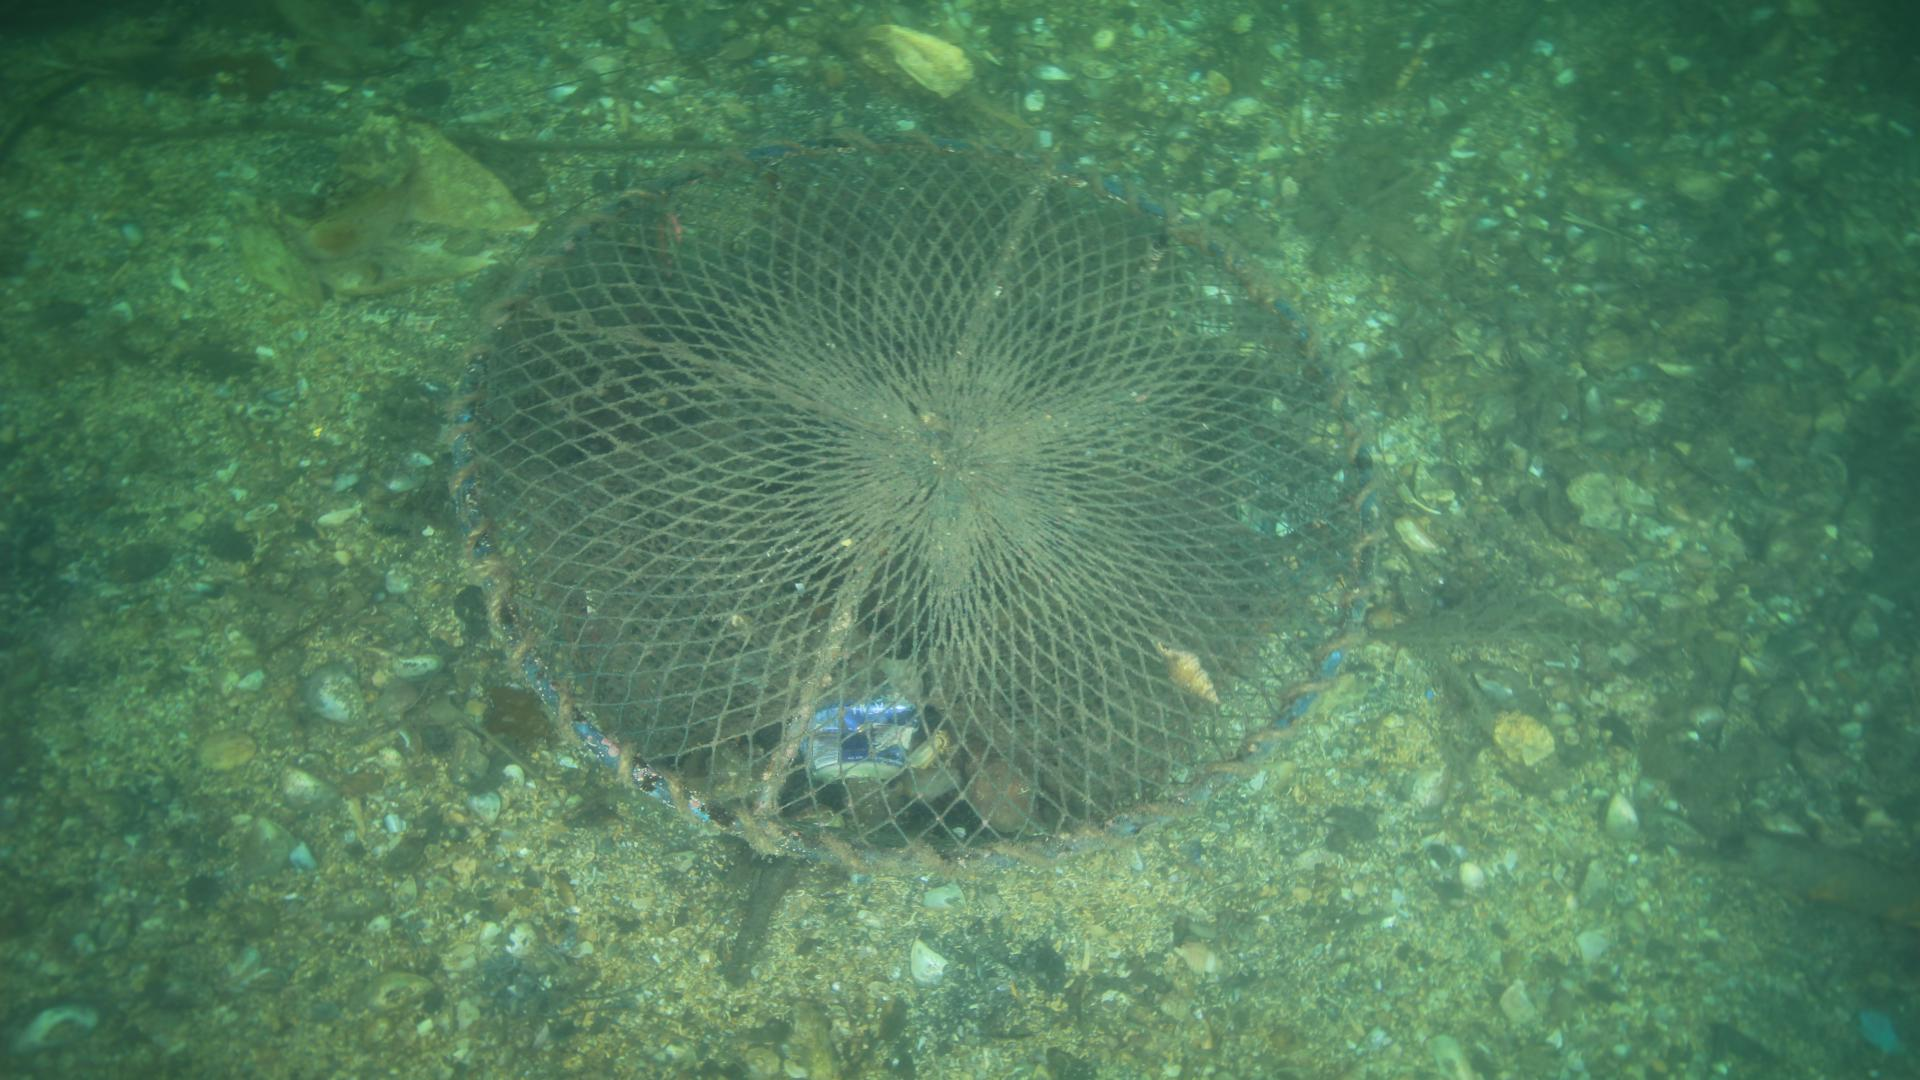circular fish trap: (448, 131, 1382, 872)
